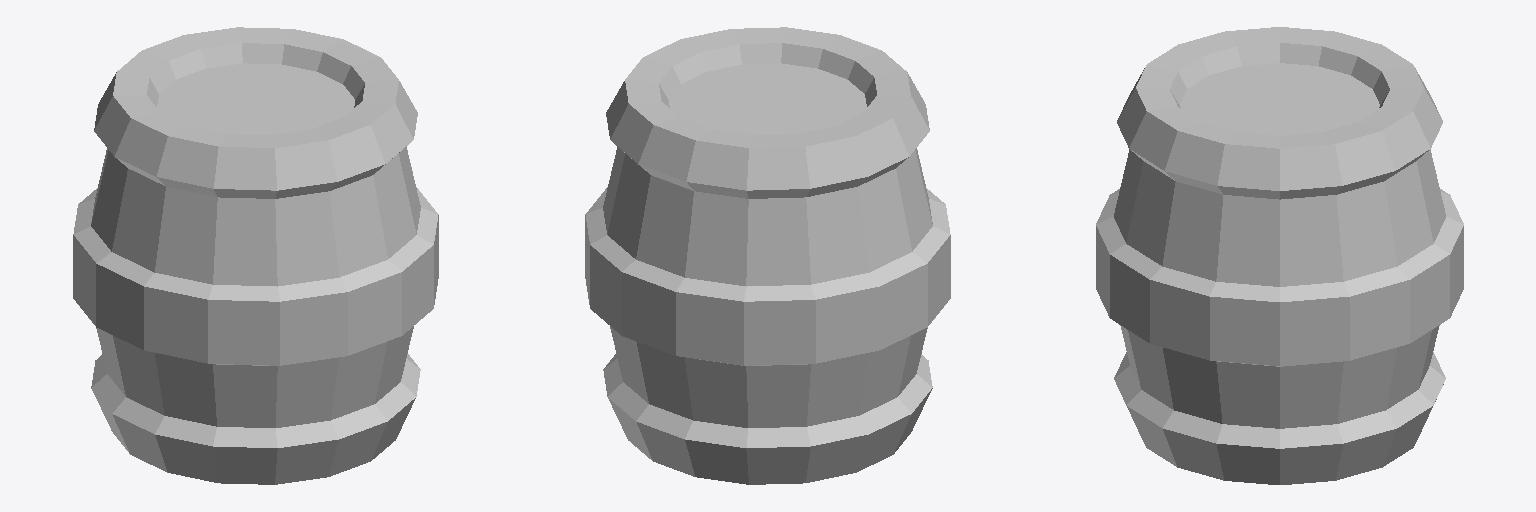
File: barrel.obj
The picture shows the model from 3 angles: view 1: azimuth 30°, elevation 25°; view 2: azimuth 150°, elevation 25°; view 3: azimuth 270°, elevation 25°; orthographic projection.
Visible parts, largest first — view 1: polySurface291 ASSET_Barrel8 Barrels, polySurface287; view 2: polySurface291 ASSET_Barrel8 Barrels, polySurface287; view 3: polySurface291 ASSET_Barrel8 Barrels, polySurface287.
Boxes of the visible parts, x1=… form: polySurface291 ASSET_Barrel8 Barrels: x1=73, y1=27, x2=438, y2=484; polySurface287: x1=91, y1=63, x2=420, y2=427; polySurface291 ASSET_Barrel8 Barrels: x1=585, y1=27, x2=950, y2=484; polySurface287: x1=603, y1=63, x2=932, y2=427; polySurface291 ASSET_Barrel8 Barrels: x1=1096, y1=27, x2=1463, y2=484; polySurface287: x1=1114, y1=63, x2=1445, y2=428.
Bounding box in the file's own units: 106 × 107 × 106.